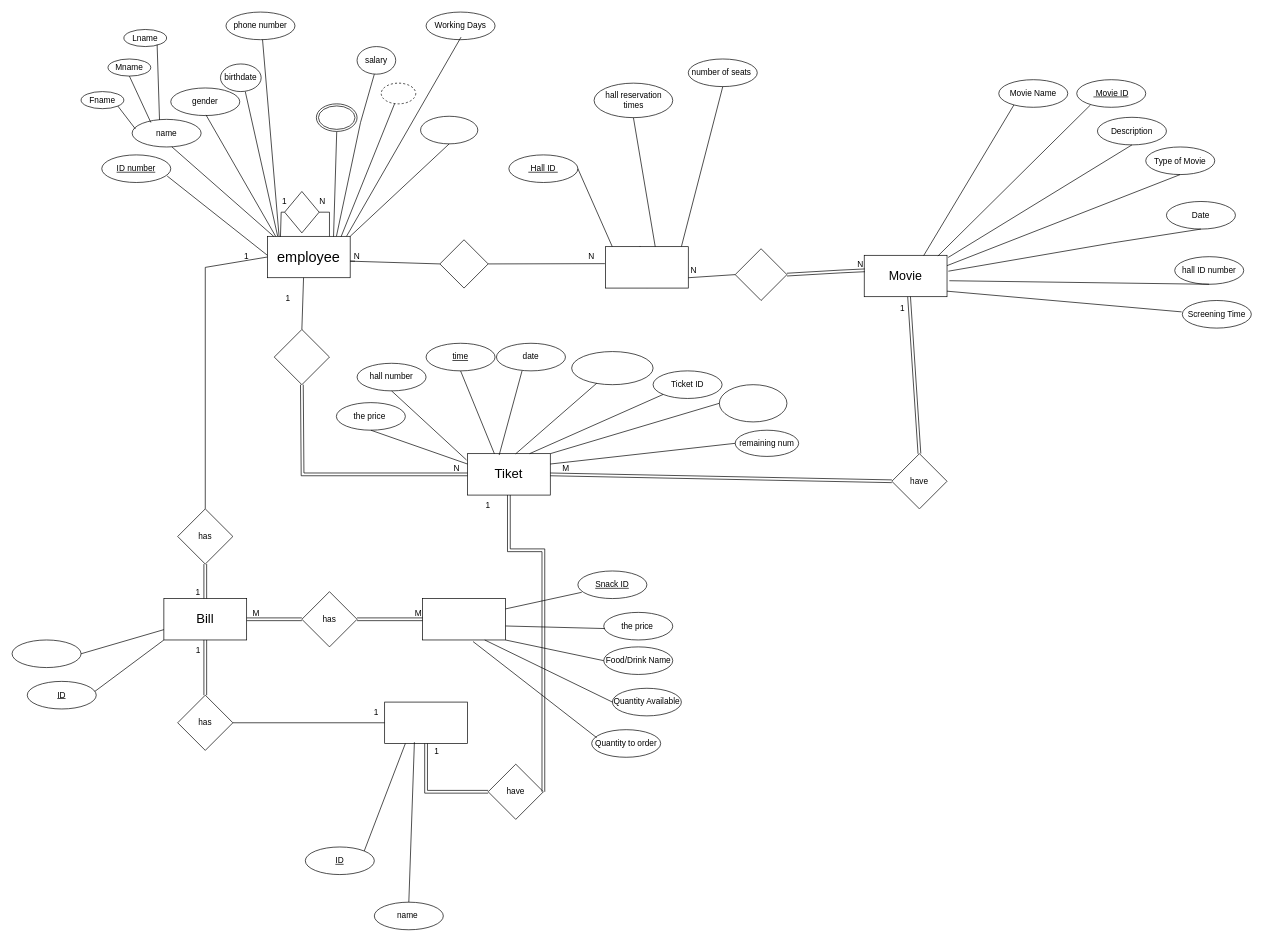
The diagram is 1263 pixels wide and 947 high, and some of its shapes have lost their labels. The box of each missing label's shape, as (x1, y1, x2, y2) in pixels:
address: (316, 103, 357, 131)
age: (381, 82, 416, 104)
Custamer: (384, 701, 467, 743)
Hall: (605, 246, 688, 288)
mange: (284, 191, 319, 233)
name of the movie: (571, 351, 653, 385)
provide: (274, 329, 329, 385)
Seat Number: (719, 384, 787, 422)
show in: (735, 248, 787, 300)
Snack: (422, 598, 505, 640)
total price: (11, 639, 81, 668)
work in: (439, 239, 488, 288)
working hours: (420, 116, 478, 144)
